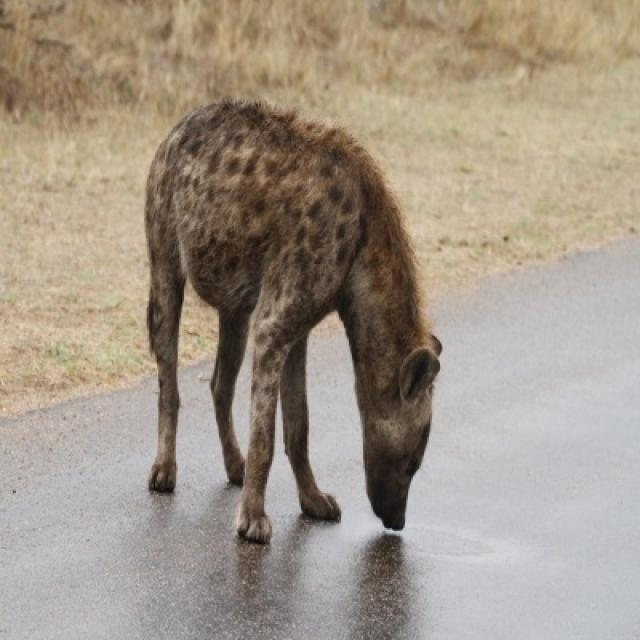hyena: (142, 101, 443, 550)
